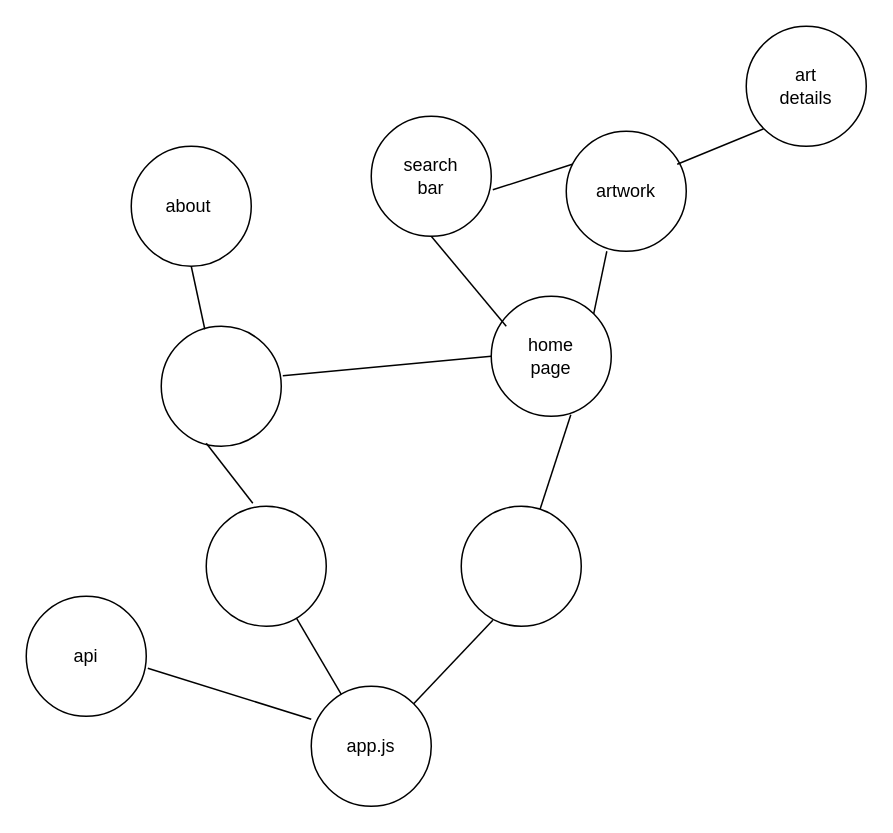
The diagram is 893 pixels wide and 833 high, and some of its shapes have lost their labels. The centre of each missing label's shape, as x and y in pixels:
header.jsx: [265,565]
main.jsx: [520,565]
navbar.jsx: [220,385]
